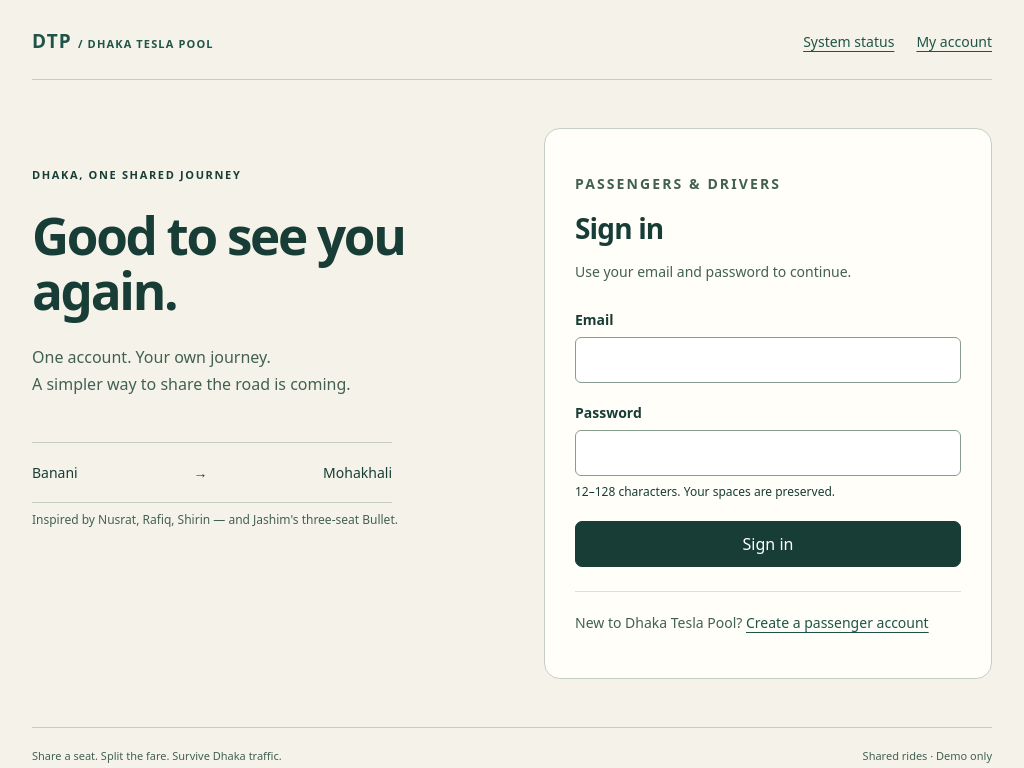
Scenario: authentication UI › redirects successful login to the PASSENGER landing and refreshes CSRF
The image size is (1024, 768).
Type "nusrat@demo.dhaka.test" into the field labelled "Email". click: (768, 360)
box: [575, 337, 961, 383]
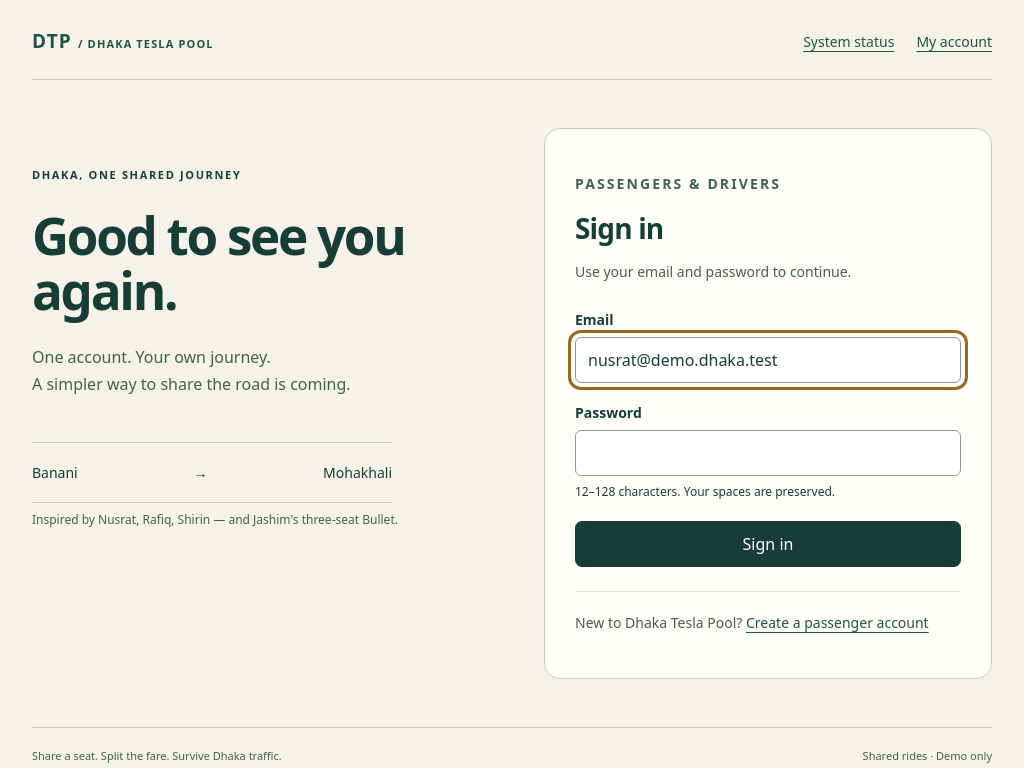
Type "DemoOnly!Dhaka2026" into the password field labelled "Password". click: (768, 453)
box: [575, 430, 961, 476]
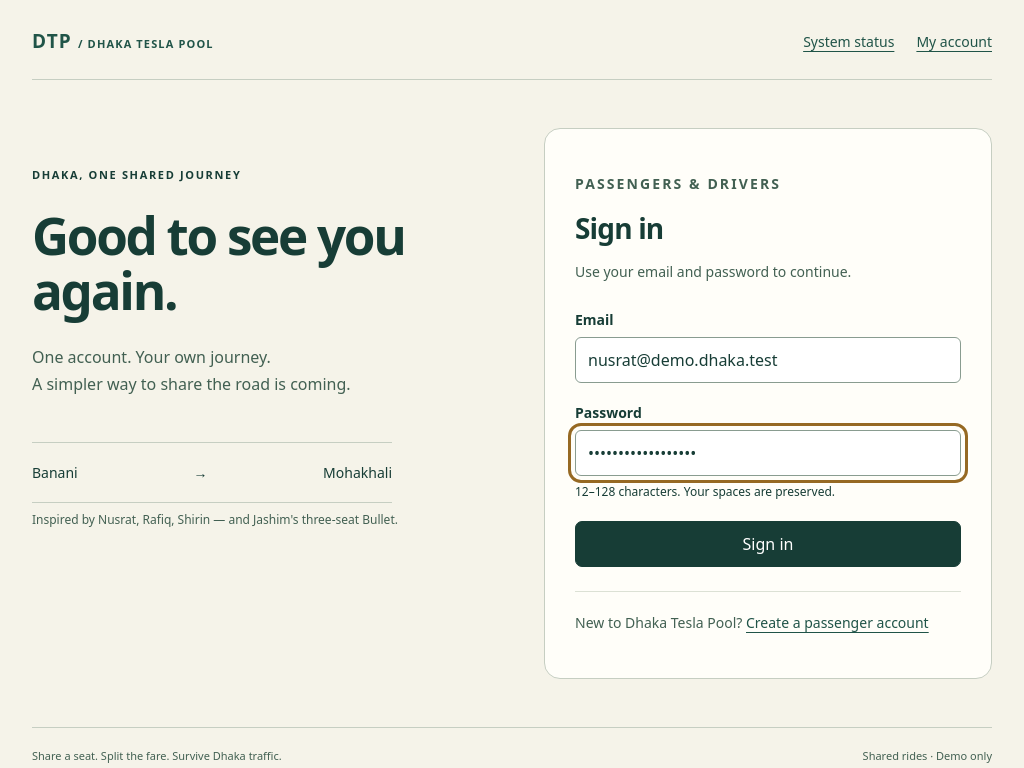
Click the button "Sign in". click: (768, 544)
box: [575, 521, 961, 567]
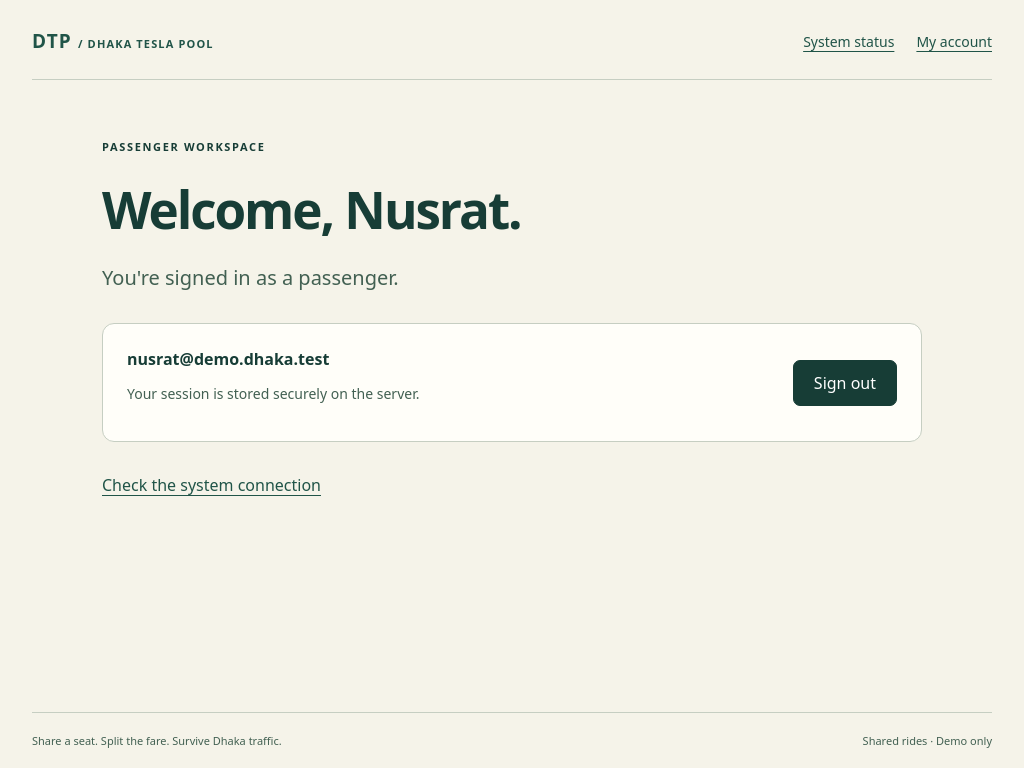
Check: the heading "Welcome, Nusrat." is shown, box [102, 174, 521, 244]
